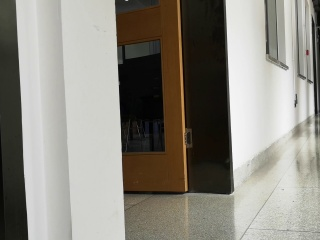room: (111, 3, 232, 197)
